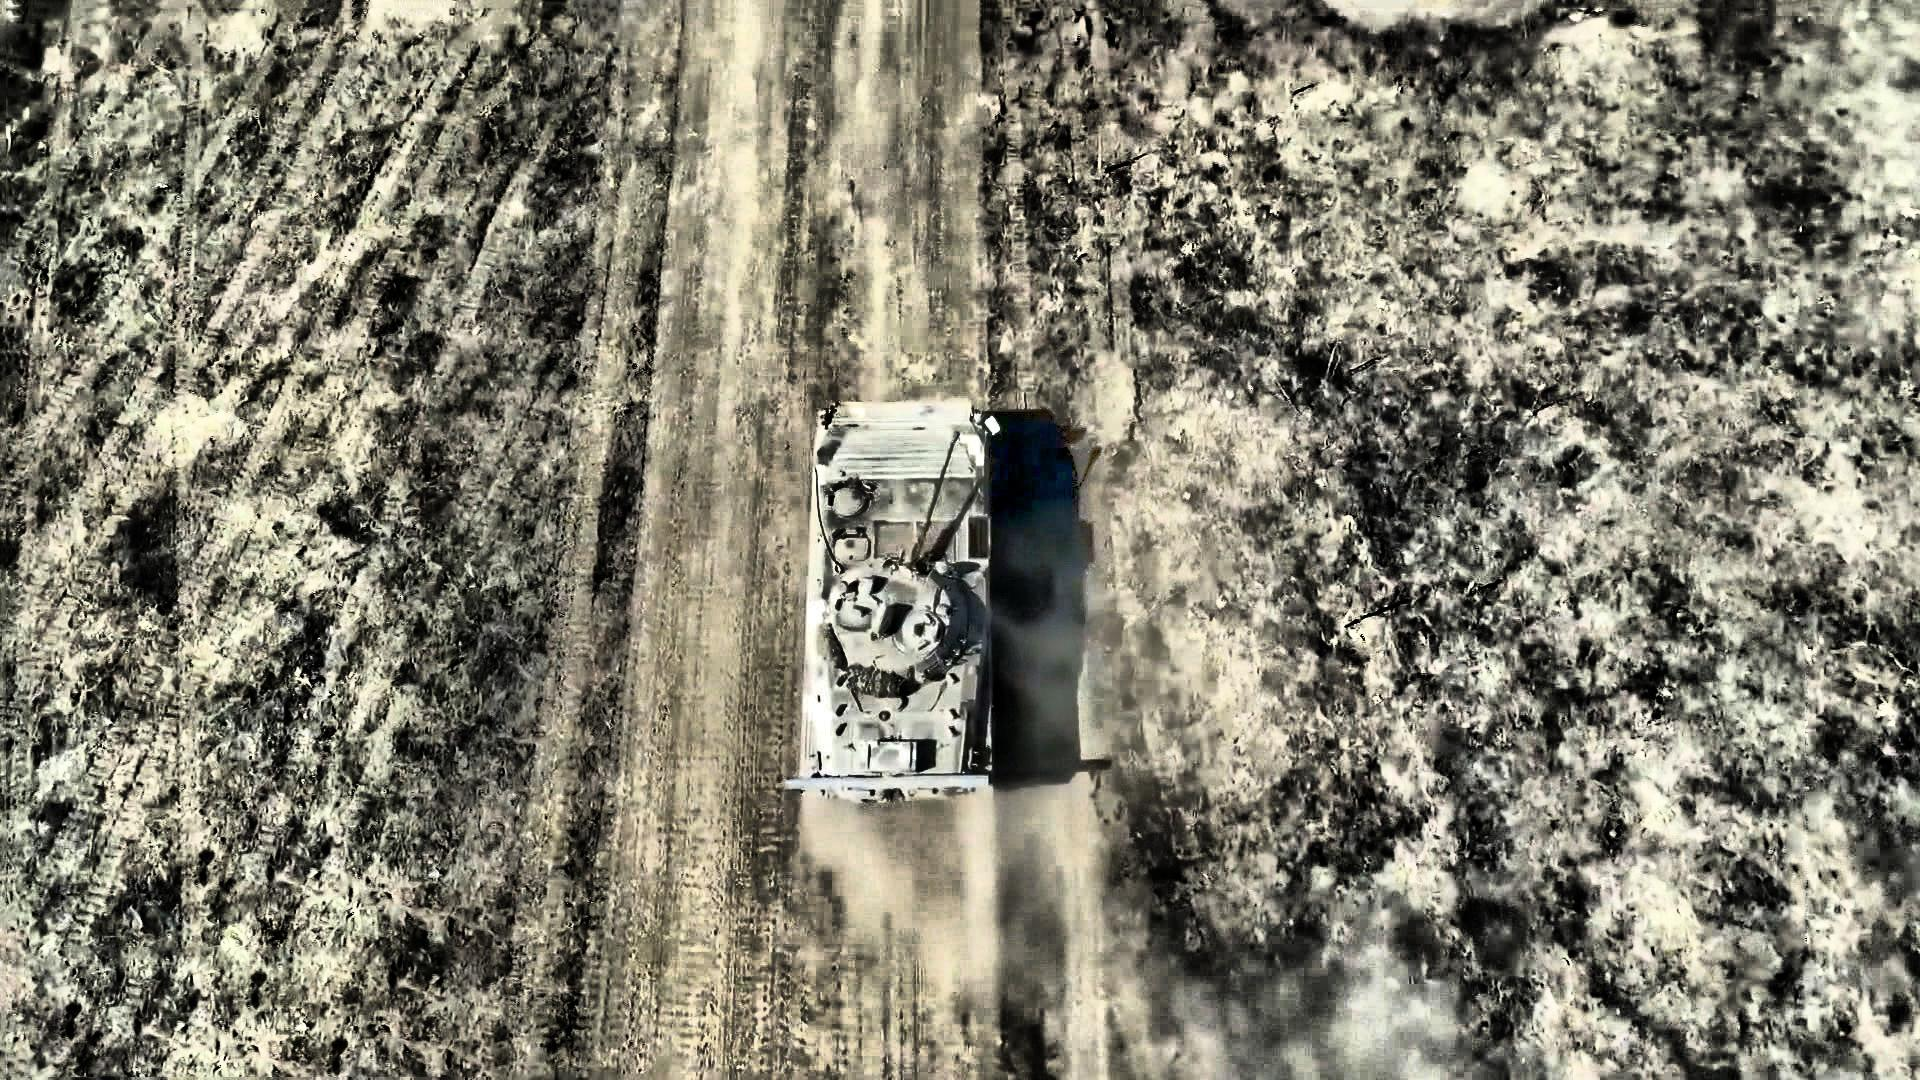military-vehicle: (791, 393, 1000, 804)
